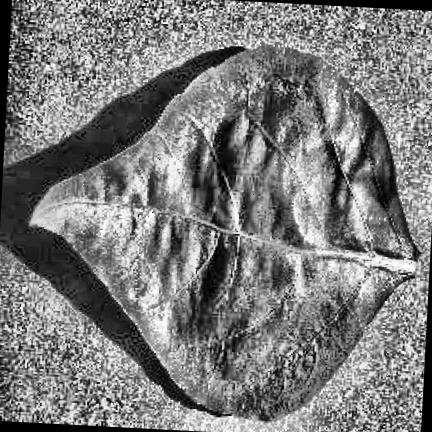leaf: (30, 49, 418, 421)
